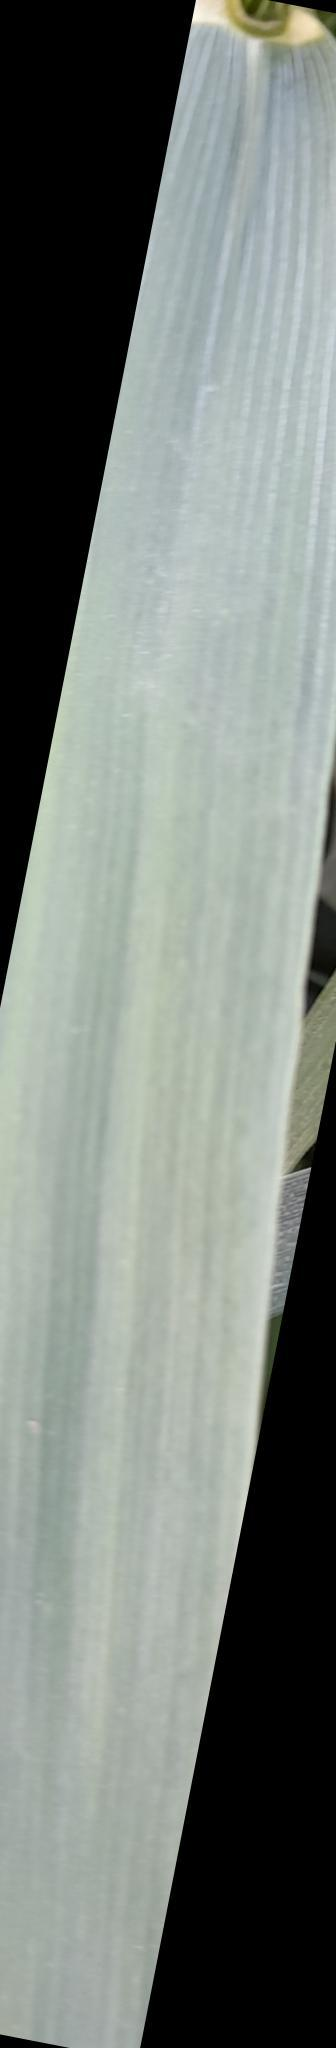Wheat: (4, 1024, 133, 2034), (190, 54, 281, 1012)
